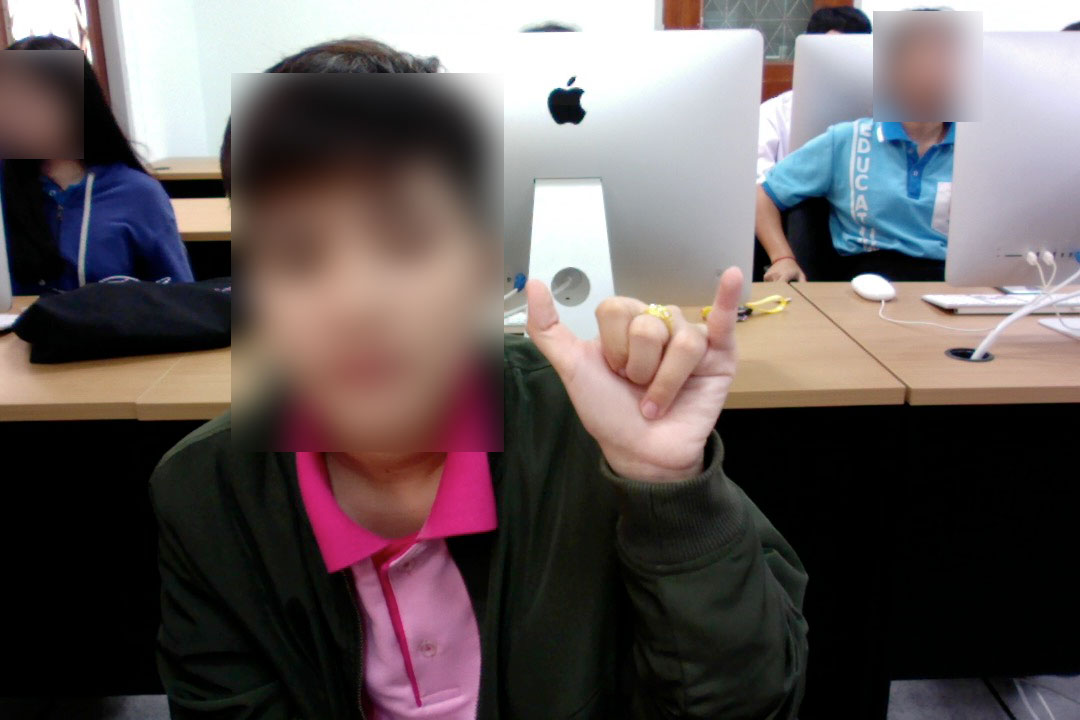yor: (517, 261, 760, 492)
